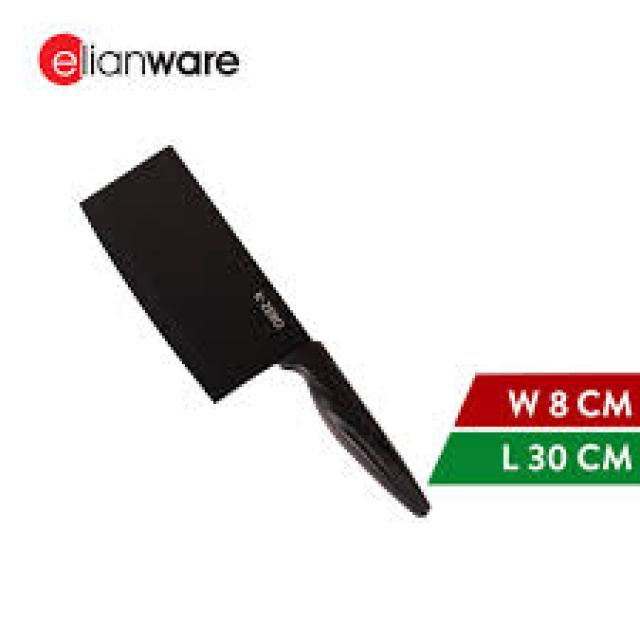Knife: (80, 145, 427, 512)
